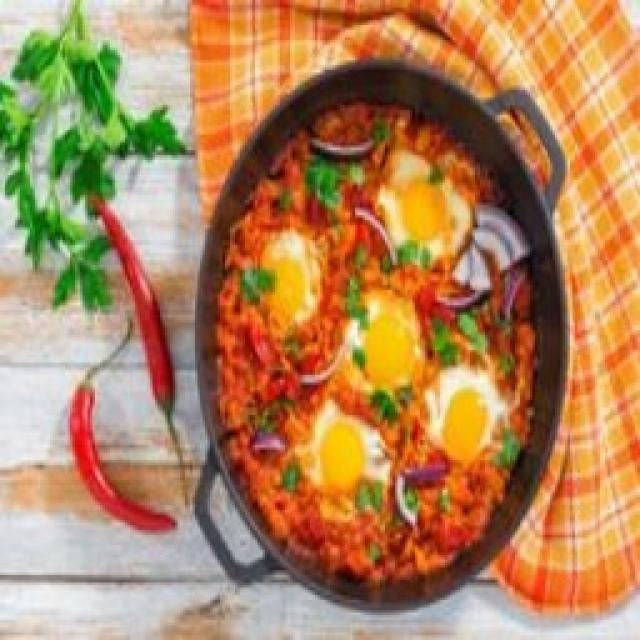Chakchouka: (198, 0, 632, 615)
